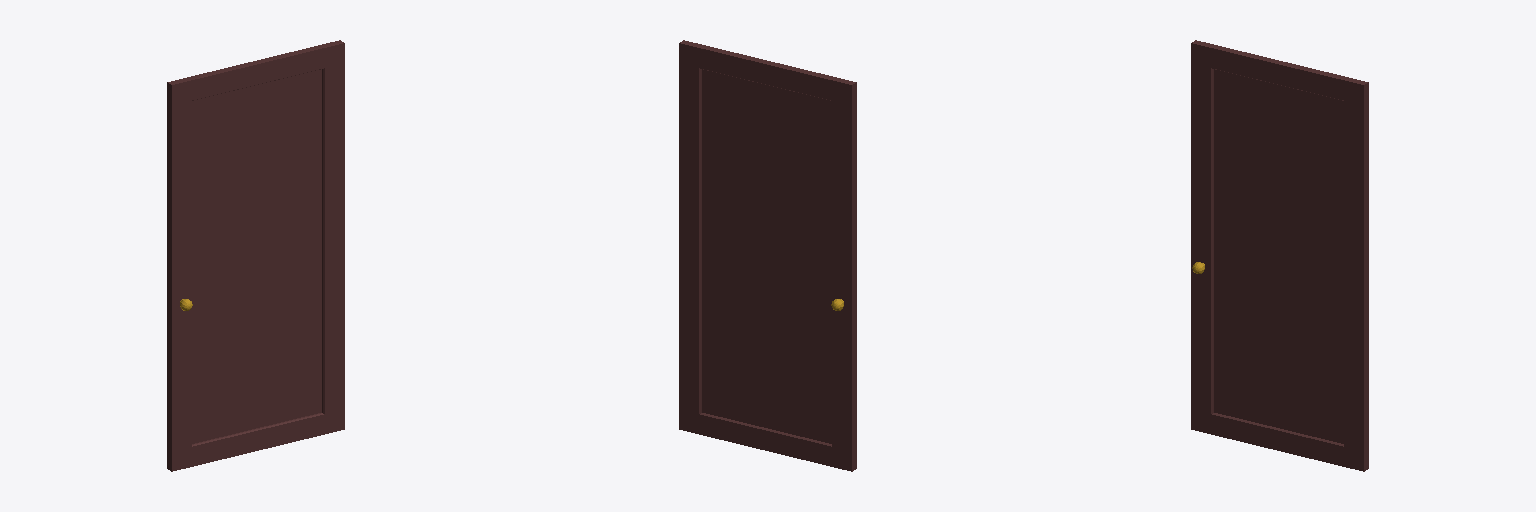
File: door2.obj
The picture shows the model from 3 angles: view 1: azimuth 30°, elevation 25°; view 2: azimuth 150°, elevation 25°; view 3: azimuth 330°, elevation 25°; orthographic projection.
Visible parts, largest first — view 1: door2; view 2: door2; view 3: door2.
Part boxes in pixels (x1,y1,x2,y2): door2: (167, 40, 344, 471); door2: (679, 40, 856, 471); door2: (1191, 40, 1368, 471).
Bounding box in the file's own units: 1.11 × 2.37 × 0.2004.